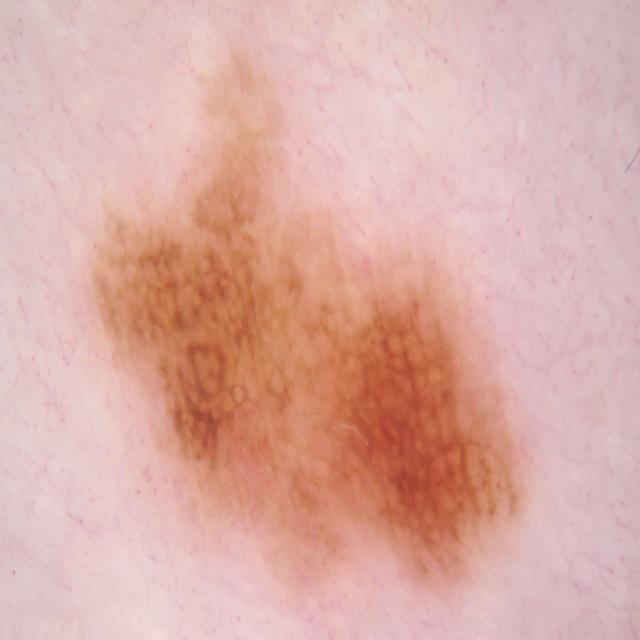Melanoma: (82, 30, 614, 639)
